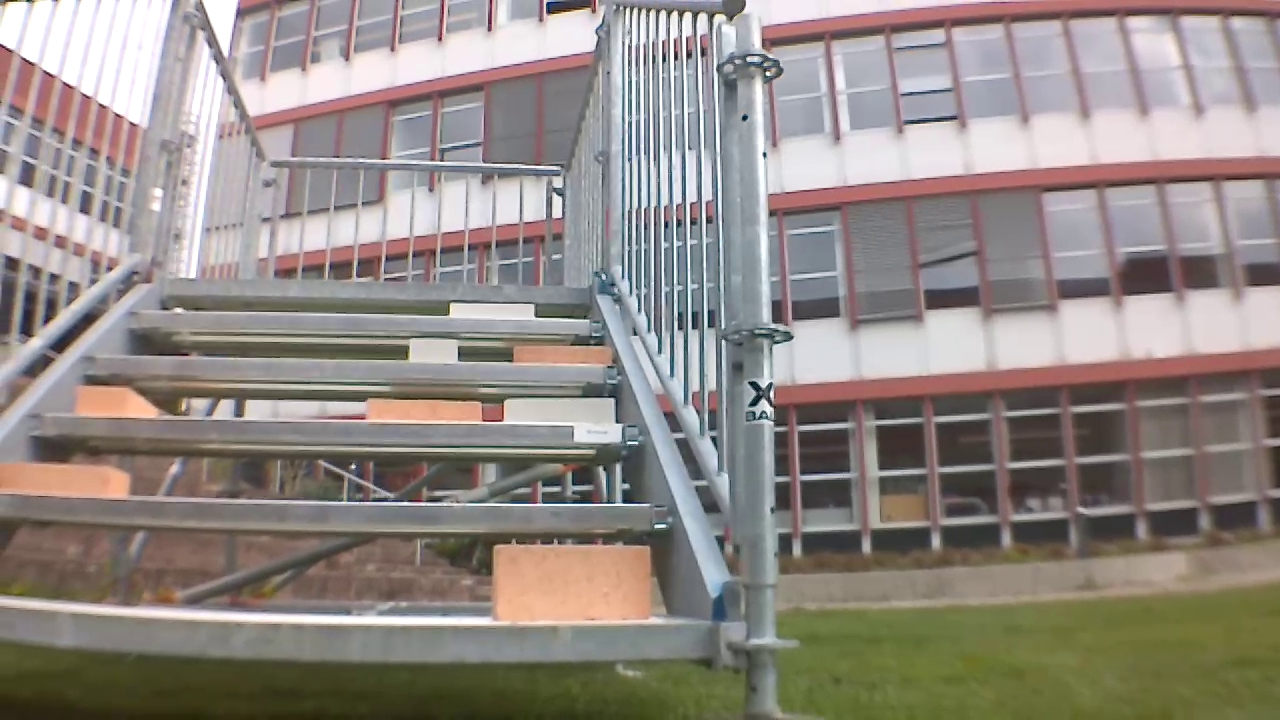brick: (488, 540, 652, 622), (1, 454, 139, 498), (503, 397, 619, 426), (362, 395, 478, 421), (68, 387, 165, 413), (510, 345, 616, 360), (405, 336, 461, 364), (447, 299, 537, 315)
edge: (0, 493, 676, 531), (0, 612, 717, 646), (83, 351, 618, 384), (123, 308, 608, 341), (27, 421, 649, 442), (155, 282, 594, 302)
stairs: (0, 0, 773, 715)
steps: (0, 278, 742, 672)
